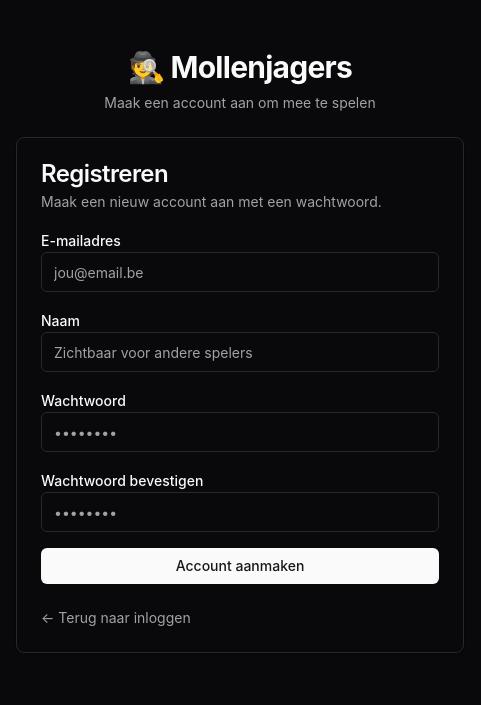
RegisterPage › shows error when passwords do not match
Type "a@b.com" into the field labelled "E-mailadres".
click(240, 272); type("a@b.com")  # box top-left (41, 252), bottom-right (439, 292)
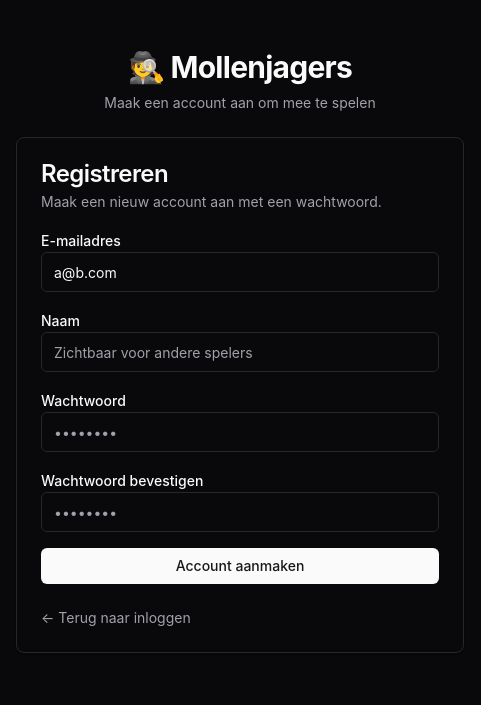
Type "Alice" into the field labelled "Naam".
click(240, 352); type("Alice")  # box top-left (41, 332), bottom-right (439, 372)
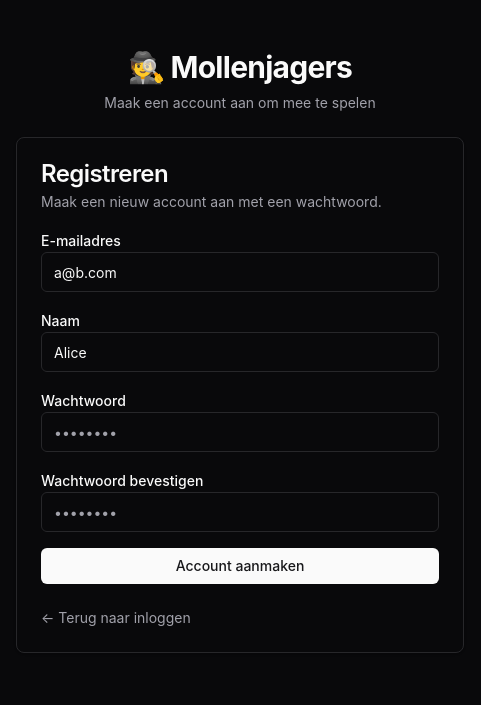
Type "abc" into the password field labelled "Wachtwoord".
click(240, 432); type("abc")  # box top-left (41, 412), bottom-right (439, 452)
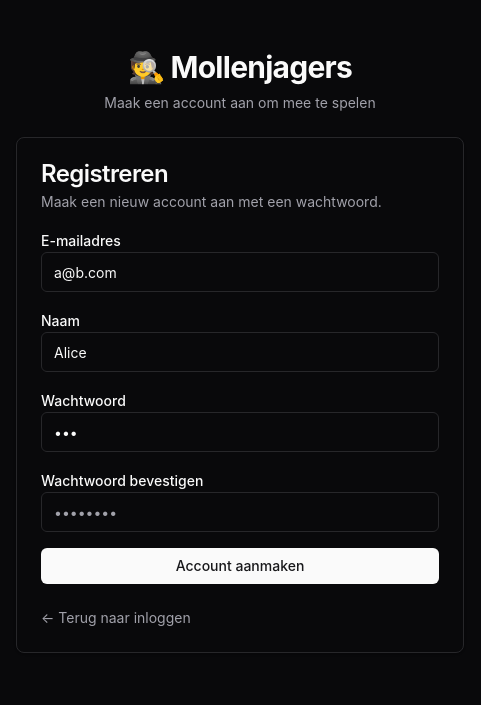
Type "xyz" into the password field labelled "Wachtwoord bevestigen".
click(240, 512); type("xyz")  # box top-left (41, 492), bottom-right (439, 532)
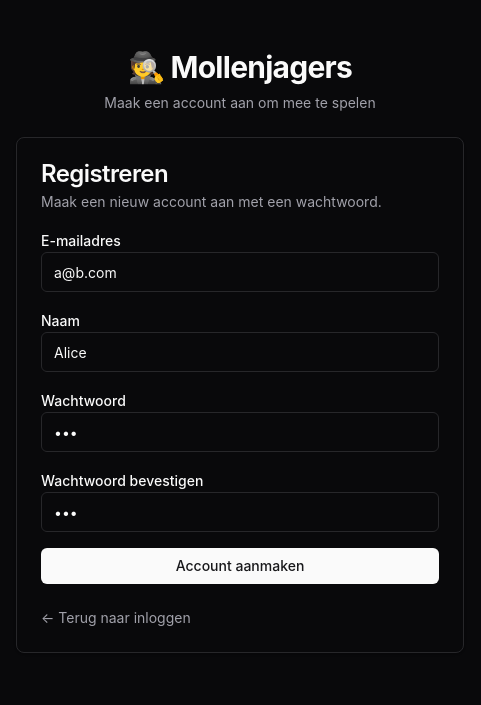
Click the button "Account aanmaken".
click(240, 566)  # box top-left (41, 548), bottom-right (439, 584)
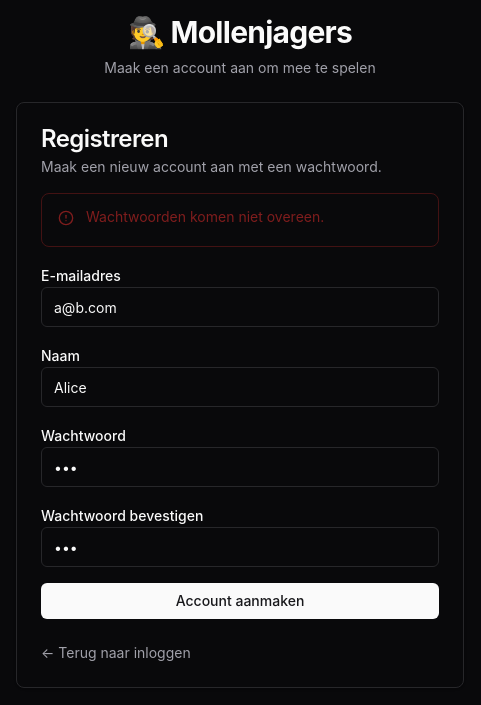
Check: the text "Wachtwoorden komen niet overeen." is shown, box top-left (86, 208), bottom-right (324, 225)
